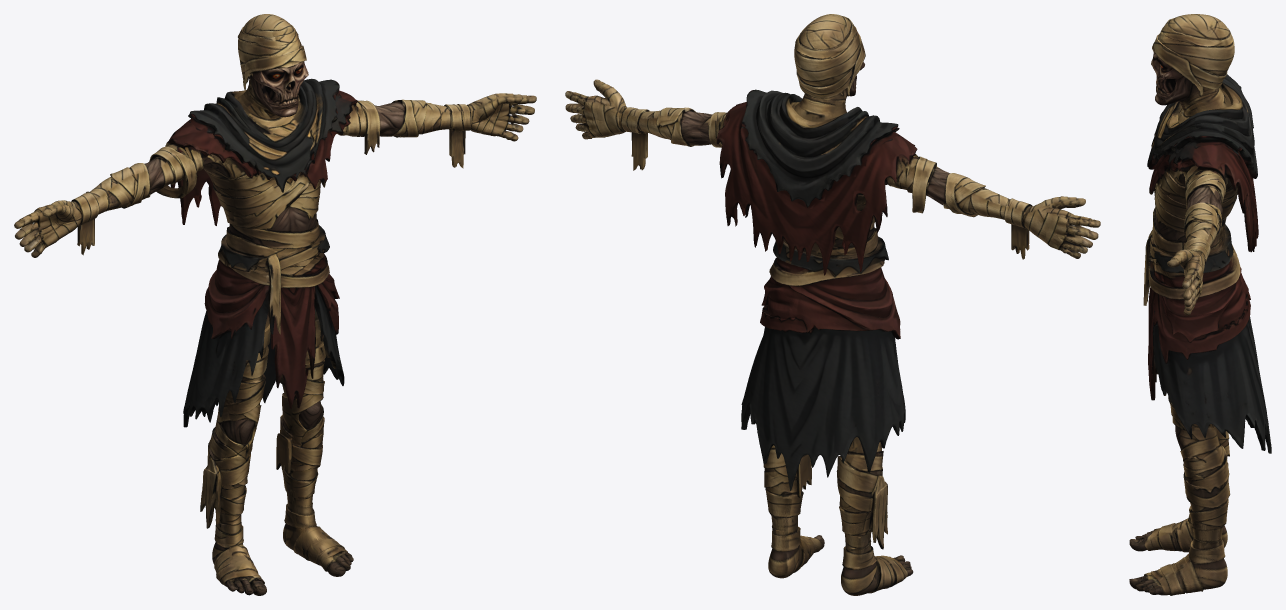
File: Mummy.glb
The picture shows the model from 3 angles, left to right: view 1: azimuth 30°, elevation 25°; view 2: azimuth 150°, elevation 25°; view 3: azimuth 270°, elevation 25°; orthographic projection. The views are drawn at different scales.
Visible parts, largest first — view 1: tmp709iv3ak.obj; view 2: tmp709iv3ak.obj; view 3: tmp709iv3ak.obj.
Part boxes in pixels (x1,y1,x2,y2): tmp709iv3ak.obj: (14, 14, 536, 595); tmp709iv3ak.obj: (565, 14, 1100, 595); tmp709iv3ak.obj: (1129, 14, 1271, 595).
Size of the model in its own units: 1.82 by 1.83 by 0.426.
Materials: 1 (1 with a texture image).
